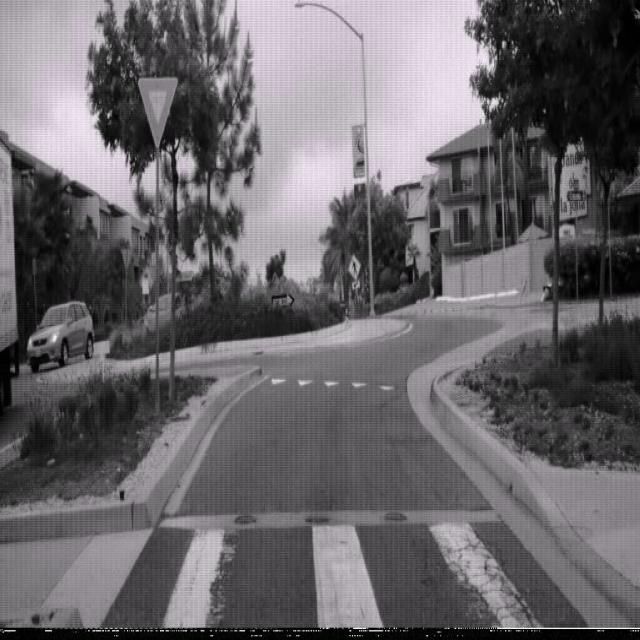pedestrianCrossing: (348, 254, 362, 282)
yield: (138, 76, 178, 148)
